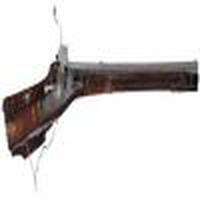gun: (3, 55, 200, 164)
